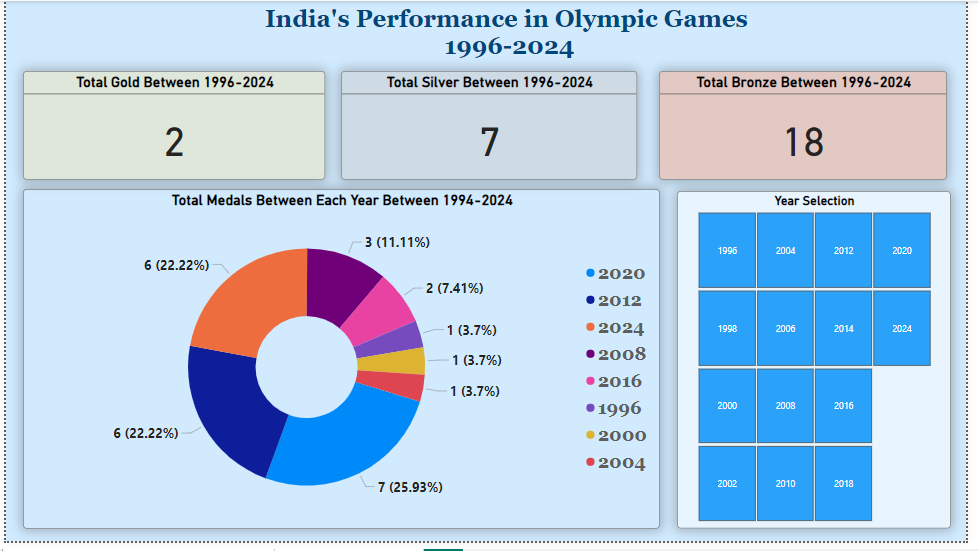

Layout of this report page (visuals, bound fields, positions):
{"tool":"powerbi","page":{"name":"India's performance","canvas":[1280,720],"ordinal":1},"visuals":[{"type":"donutChart","title":"Total Medals Between Each Year Between 1994-2024","fields":{"Category":["total medals per year by country.Year"],"Y":["Sum(total medals per year by country.Total)"]},"box":[22,250.5,849.2,452.8],"z":0},{"type":"card","title":"Total Gold Between 1996-2024","fields":{"Values":["Sum(olympics.Gold)"]},"box":[22,93.6,403.3,144.5],"z":1000},{"type":"card","title":"Total Silver Between 1996-2024","fields":{"Values":["Sum(olympics.Silver)"]},"box":[447.3,93.6,395,144.5],"z":2000},{"type":"card","title":"Total Bronze Between 1996-2024","fields":{"Values":["Sum(olympics.Bronze)"]},"box":[871.2,93.6,384,144.5],"z":3000},{"type":"slicer","title":"Year Selection","fields":{"Values":["olympics.Year"]},"box":[894.6,253.2,364.7,450.1],"z":4000},{"type":"textbox","title":"India''s Performance in Olympic Games Between 1994-2024","box":[141.8,0,1059.8,166.5],"z":5000}]}

Visuals, with their boxes in screenshot pixels (x1, y1, x2, y2), scaled from the page's 1280x720 canvas onto the 978x551 screenshot:
"Total Medals Between Each Year Between 1994-2024" donutChart: rect(17, 192, 666, 538)
"Total Gold Between 1996-2024" card: rect(17, 72, 325, 182)
"Total Silver Between 1996-2024" card: rect(342, 72, 644, 182)
"Total Bronze Between 1996-2024" card: rect(666, 72, 959, 182)
"Year Selection" slicer: rect(684, 194, 962, 538)
"India''s Performance in Olympic Games Between 1994-2024" textbox: rect(108, 0, 918, 127)
